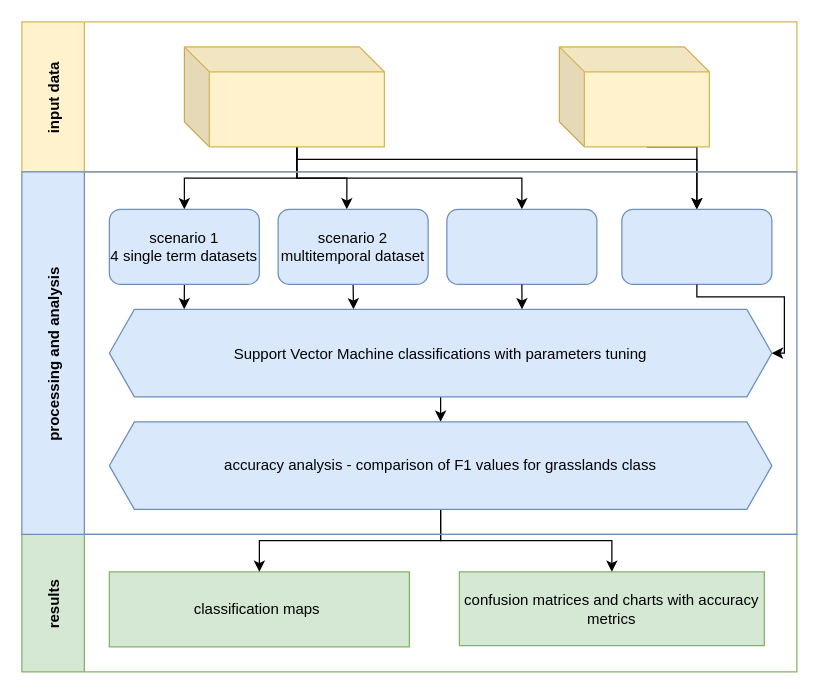
The diagram is 819 pixels wide and 694 high, and some of its shapes have lost their labels. The shapes that lost their labels are listed below. From the top down, each one's centre as x and y in pixels, then its label:
At point (283, 96): "multitemporal Sentinel-2 data (4 terms from 2018)".
At point (633, 96): "vector reference polygons".
At point (521, 246): "scenario 3 multitemporal dataset with feature selection".
At point (696, 246): "extracted reference pixel values for each class".
